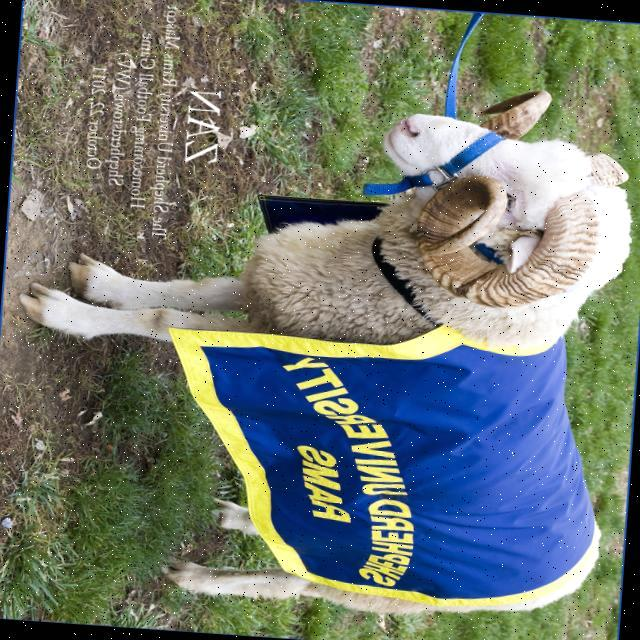sheep: (24, 112, 632, 617)
